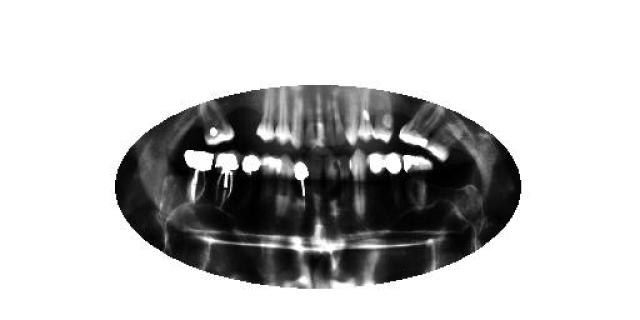Fillings: (398, 105, 438, 147), (402, 154, 432, 208), (366, 150, 384, 190), (241, 152, 261, 186), (382, 152, 402, 182)
Implant: (183, 148, 215, 208), (215, 150, 239, 211), (292, 158, 312, 200)
